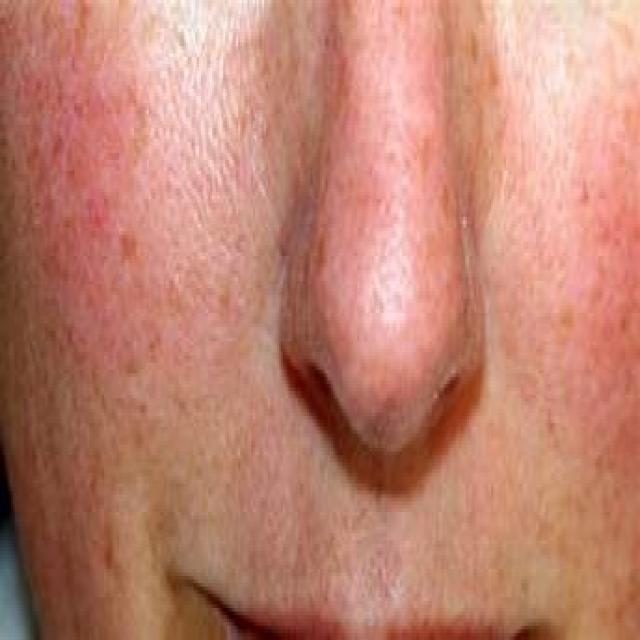Rosacea: (34, 69, 126, 367)
